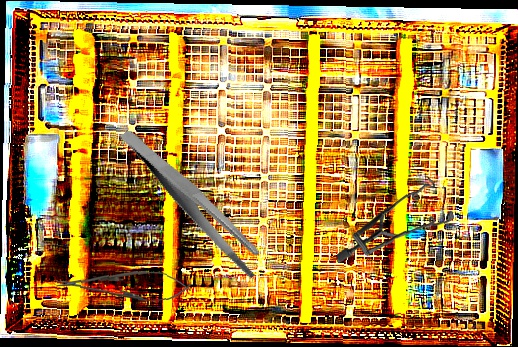Dressing Forceps: (119, 103, 269, 301)
Needle Holder: (55, 266, 192, 304)
Speculum: (336, 172, 457, 270)
